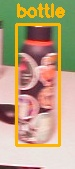bottle: (16, 24, 59, 145)
